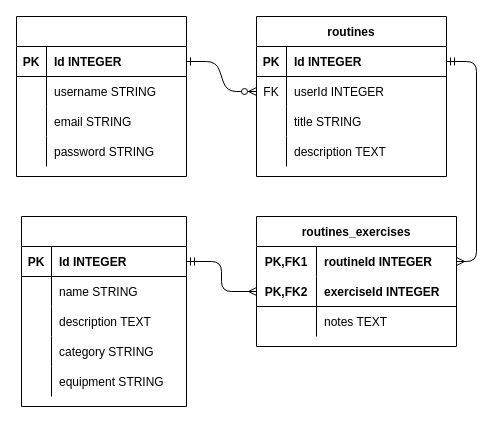
Some shapes in this 493 by 423 pixel diagram are drawn without their labels. The box of each missing label's shape, as (x1, y1, x2, y2) in pixels:
exercises: (20, 216, 186, 406)
users: (16, 16, 186, 176)
